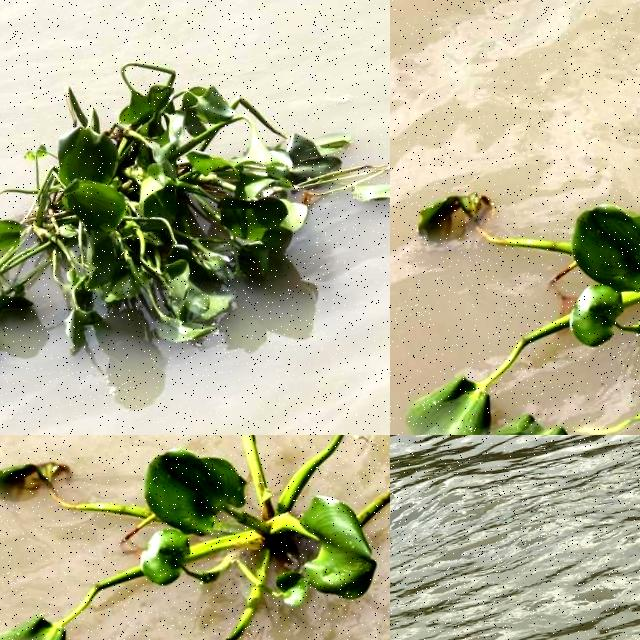water-hyacinth: (1, 56, 387, 348), (1, 436, 391, 640), (406, 186, 640, 436)
